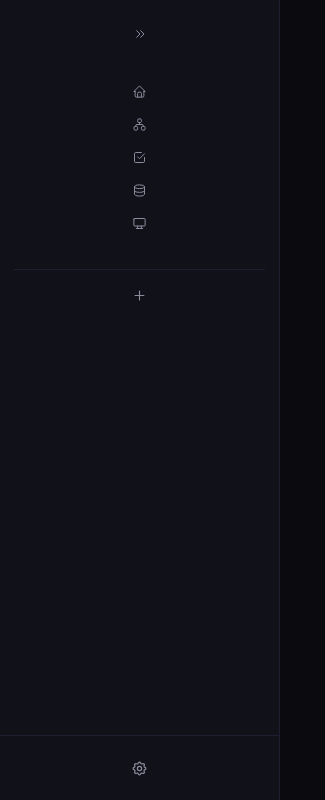
Test: AppSidebar settings menu wiring › closes the open menu on route change
Click the button named "Settings": (140, 768) [131, 752, 148, 784]
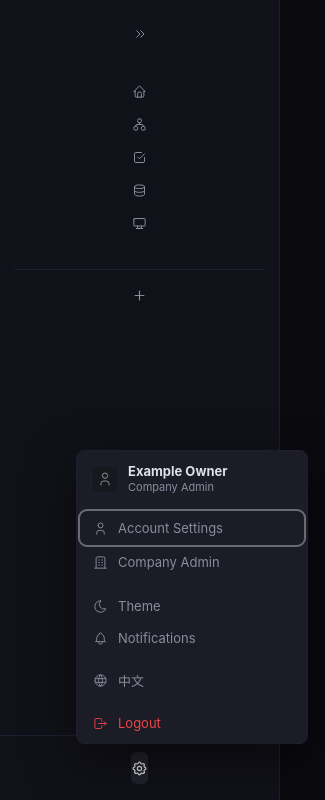
Expected: the button "Account Settings" is shown, [81, 512, 303, 544]
